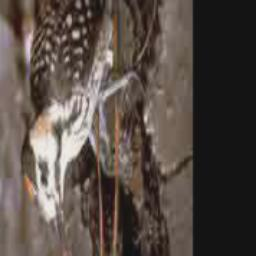Woodpecker: (22, 0, 137, 256)
